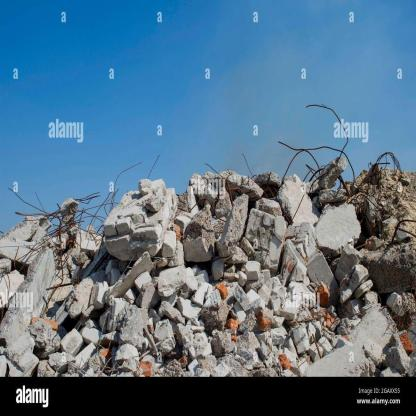rebar: (276, 96, 408, 224), (9, 189, 87, 287), (79, 159, 146, 236), (380, 212, 416, 251), (190, 193, 228, 225), (220, 176, 245, 206)
